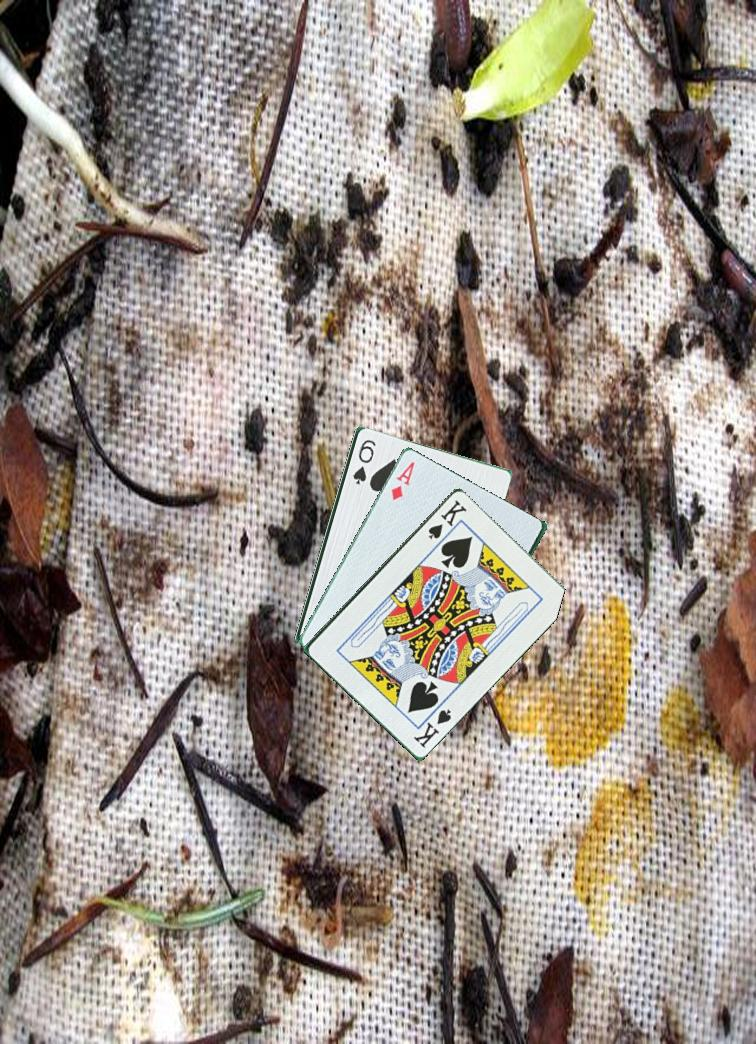6s: (349, 435, 378, 488)
ad: (387, 457, 418, 503)
ks: (406, 705, 454, 750), (424, 496, 469, 542)
